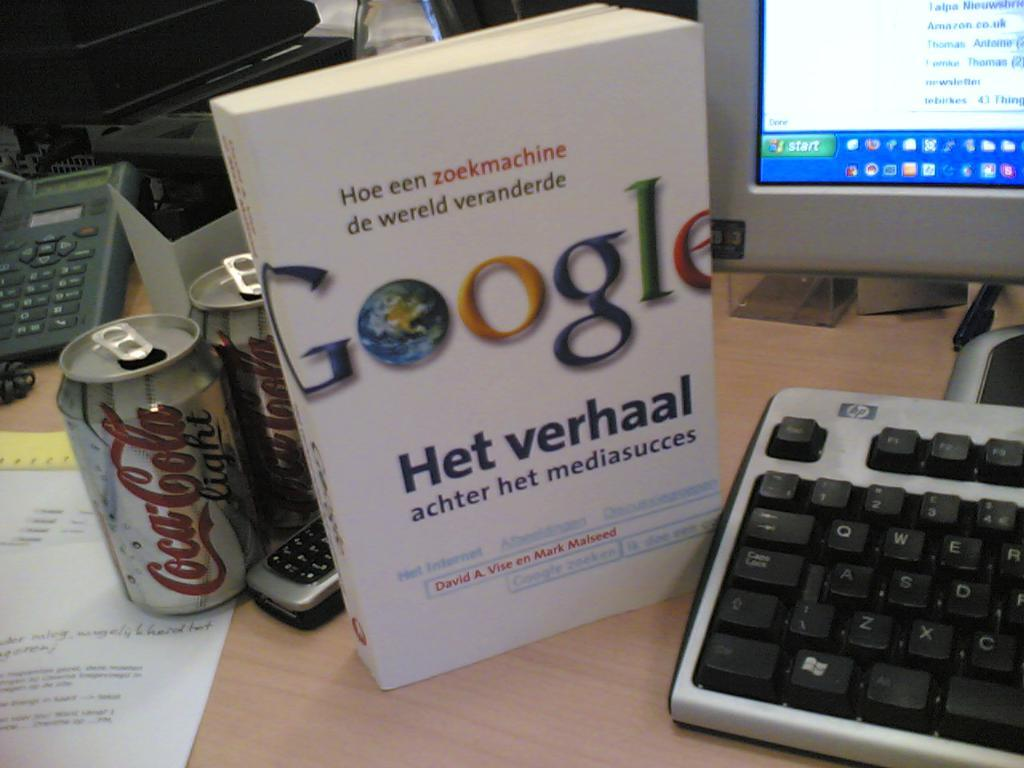Computer-keyboard: (667, 383, 1023, 767)
Computer-monitor: (694, 0, 1023, 357)
